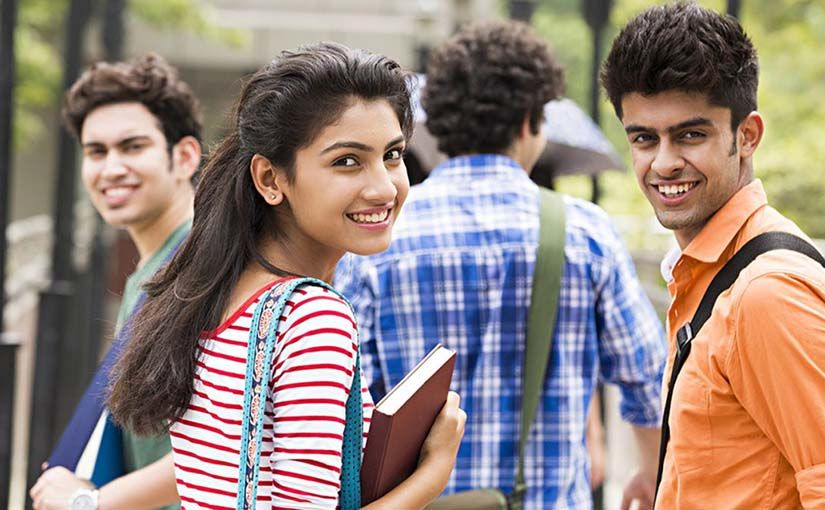Person: (600, 22, 821, 510), (212, 43, 433, 510), (412, 5, 600, 509), (42, 63, 187, 497)
